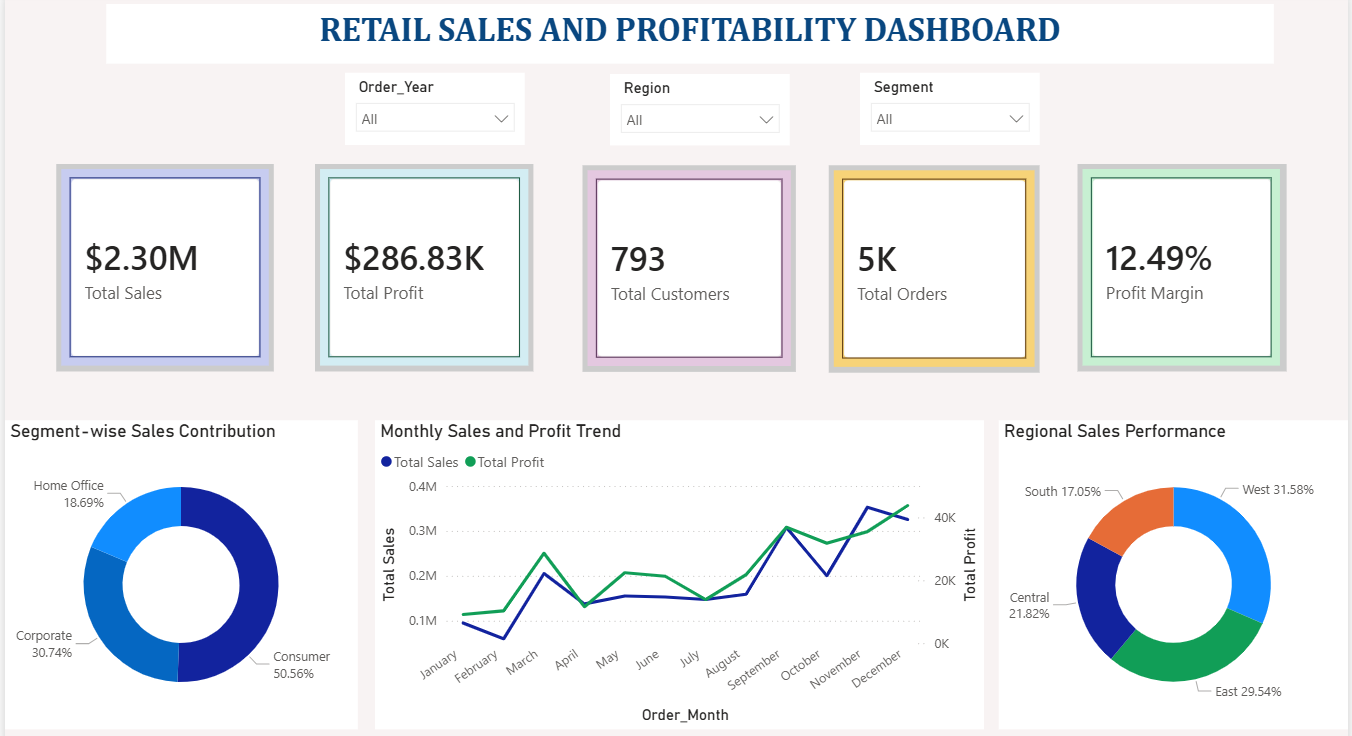

Layout of this report page (visuals, bound fields, positions):
{"tool":"powerbi","page":{"name":"Executive Sales Overview","canvas":[1280,720],"ordinal":0},"visuals":[{"type":"cardVisual","fields":{"Data":["Retail Sales Analysis.Total Sales"]},"box":[48.8,161.9,207.1,197.6],"z":0},{"type":"cardVisual","fields":{"Data":["Retail Sales Analysis.Total Orders"]},"box":[784.5,163.1,201.2,197.6],"z":1000},{"type":"cardVisual","fields":{"Data":["Retail Sales Analysis.Total Profit"]},"box":[295.2,161.9,208.3,197.6],"z":2000},{"type":"cardVisual","fields":{"Data":["Retail Sales Analysis.Total Customers"]},"box":[550,163.1,203.6,196.4],"z":3000},{"type":"cardVisual","fields":{"Data":["Retail Sales Analysis.Profit Margin"]},"box":[1021.4,161.9,198.8,197.6],"z":4000},{"type":"textbox","box":[96.4,9.5,1111.9,57.1],"z":5000},{"type":"slicer","fields":{"Values":["Retail Sales Analysis.Order_Year"]},"box":[323.8,75,171.4,69],"z":6000},{"type":"lineChart","title":"Monthly Sales and Profit Trend","fields":{"Y":["Retail Sales Analysis.Total Sales"],"Y2":["Retail Sales Analysis.Total Profit"],"Category":["Retail Sales Analysis.Order_Month"]},"box":[352.4,406,579.8,294],"z":7000},{"type":"slicer","fields":{"Values":["Retail Sales Analysis.Region"]},"box":[576.2,76.2,171.4,67.9],"z":8000},{"type":"slicer","fields":{"Values":["Retail Sales Analysis.Segment"]},"box":[814.3,75,171.4,69],"z":9000},{"type":"donutChart","title":"Segment-wise Sales Contribution","fields":{"Y":["Sum(Retail Sales Analysis.Sales)"],"Category":["Retail Sales Analysis.Segment"]},"box":[0,406,335.7,294],"z":10000},{"type":"donutChart","title":"Regional Sales Performance","fields":{"Y":["Sum(Retail Sales Analysis.Sales)"],"Category":["Retail Sales Analysis.Region"]},"box":[946.4,406,333.3,294],"z":11000}]}

Visuals, with their boxes on the page's 1280x720 design canvas (x1, y1, x2, y2). These are canvas units, not pixel positions in the 1352x736 screenshot, which may show the page scaled, cropped or inside an application window:
cardVisual - Retail Sales Analysis.Total Sales: left=49, top=162, right=256, bottom=360
cardVisual - Retail Sales Analysis.Total Orders: left=784, top=163, right=986, bottom=361
cardVisual - Retail Sales Analysis.Total Profit: left=295, top=162, right=504, bottom=360
cardVisual - Retail Sales Analysis.Total Customers: left=550, top=163, right=754, bottom=360
cardVisual - Retail Sales Analysis.Profit Margin: left=1021, top=162, right=1220, bottom=360
textbox: left=96, top=10, right=1208, bottom=67
slicer - Retail Sales Analysis.Order_Year: left=324, top=75, right=495, bottom=144
"Monthly Sales and Profit Trend" lineChart: left=352, top=406, right=932, bottom=700
slicer - Retail Sales Analysis.Region: left=576, top=76, right=748, bottom=144
slicer - Retail Sales Analysis.Segment: left=814, top=75, right=986, bottom=144
"Segment-wise Sales Contribution" donutChart: left=0, top=406, right=336, bottom=700
"Regional Sales Performance" donutChart: left=946, top=406, right=1280, bottom=700
